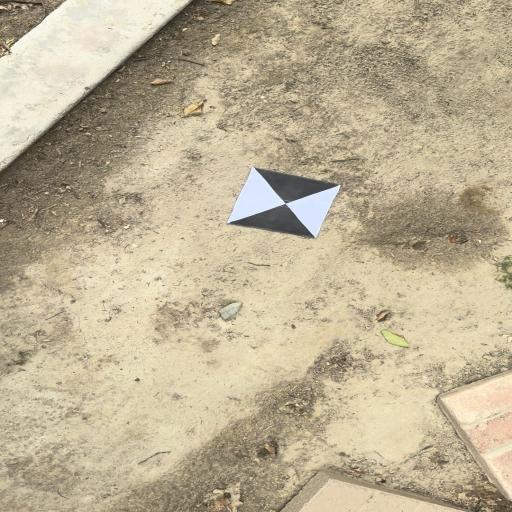target: (227, 168, 340, 238)
